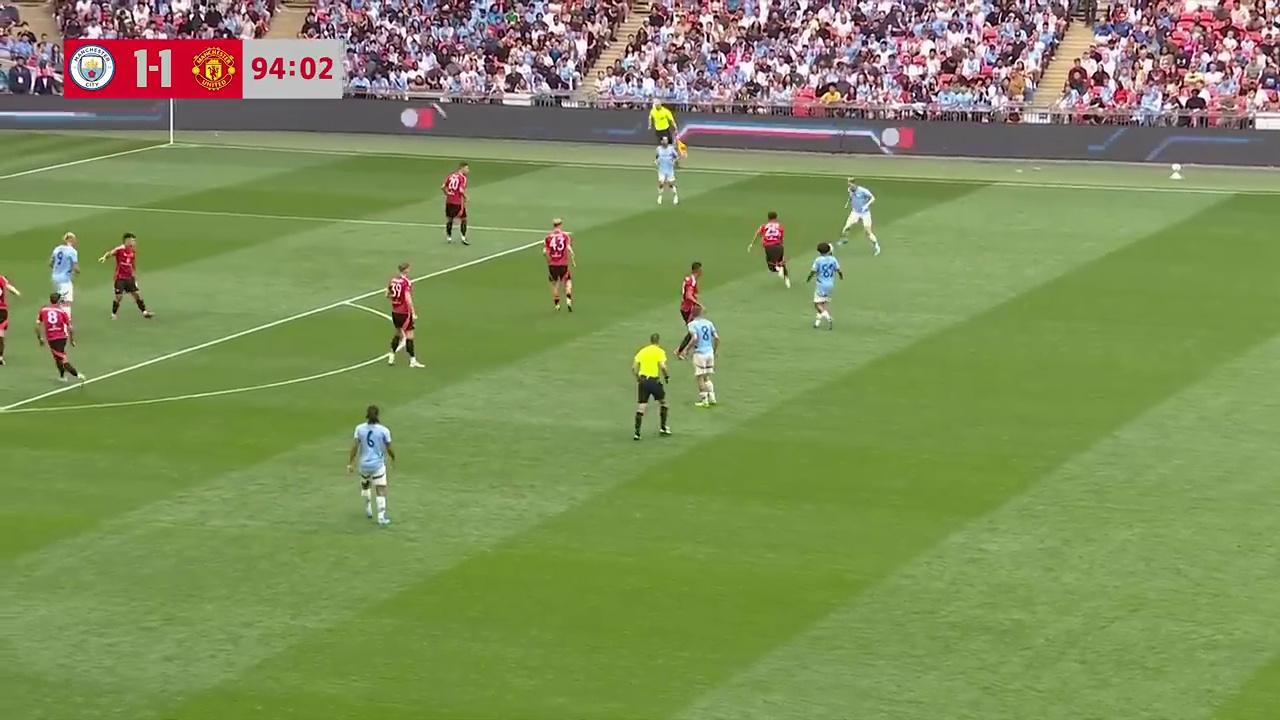player: (348, 406, 395, 526), (98, 232, 154, 320), (385, 264, 425, 369), (678, 307, 720, 407), (35, 294, 82, 383), (805, 240, 843, 330), (838, 179, 880, 255), (749, 210, 791, 286), (543, 217, 575, 313), (48, 232, 80, 304), (441, 164, 469, 245), (0, 270, 22, 362), (678, 261, 703, 337), (655, 134, 680, 206)
referee: (631, 332, 671, 441), (649, 100, 677, 153)
